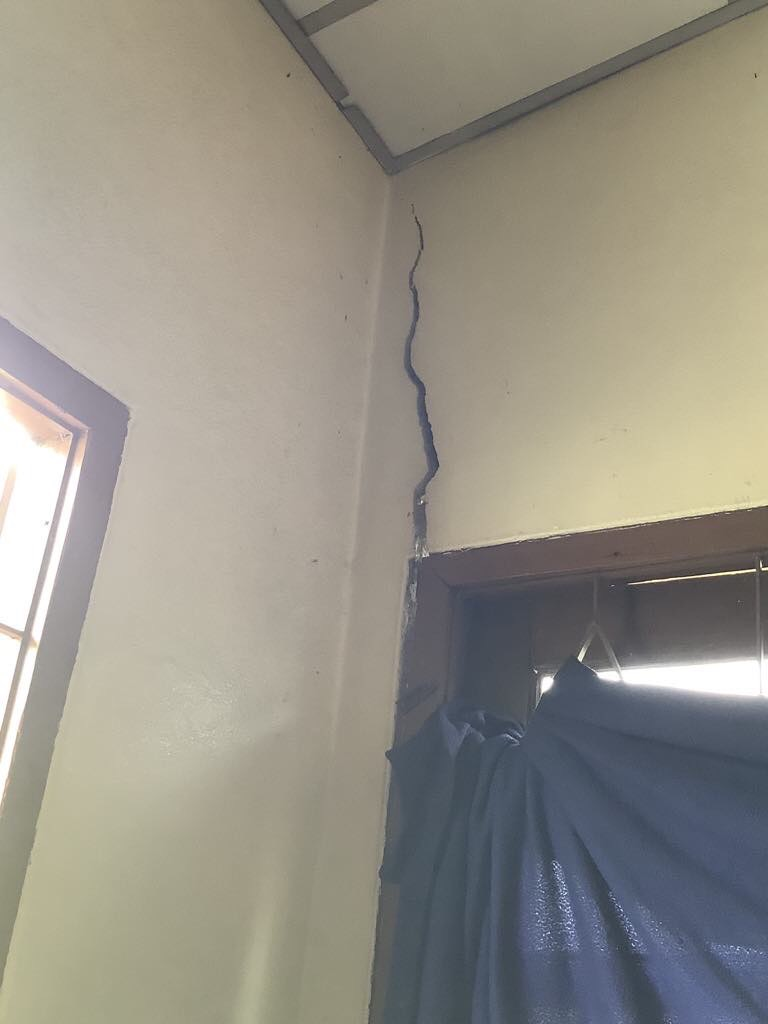Medium: (371, 202, 471, 539)
